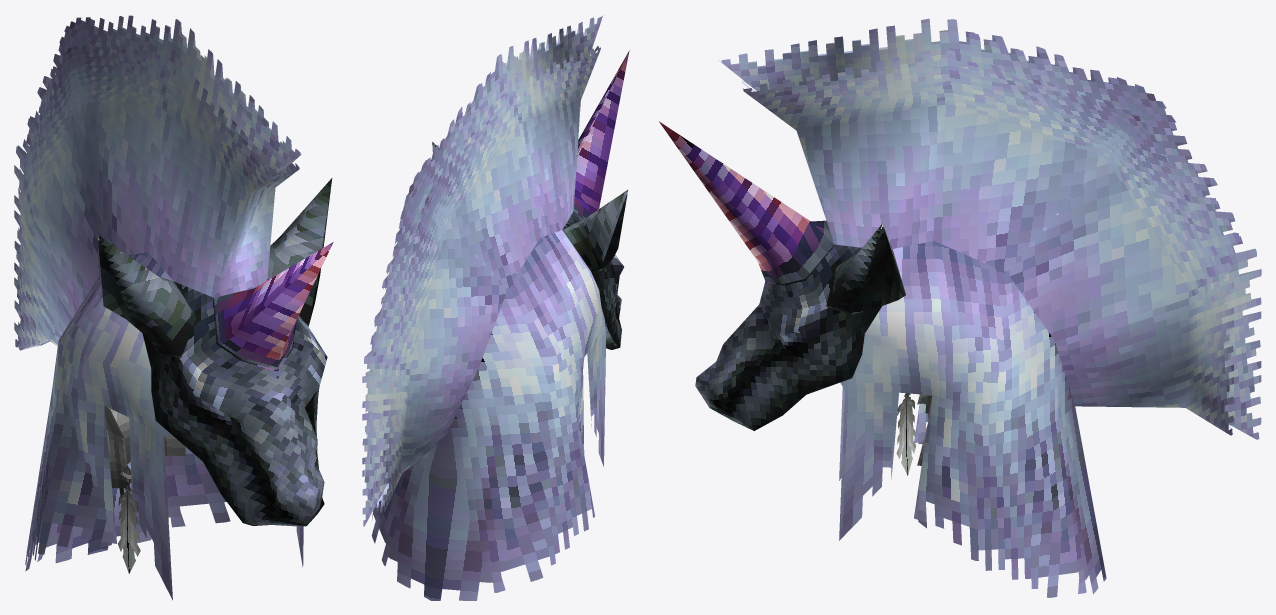
Rendered from m_helmet283.obj.
3 renders of one model, left to right at view 1: azimuth 30°, elevation 25°; view 2: azimuth 150°, elevation 25°; view 3: azimuth 270°, elevation 25°, orthographic. The views are drawn at different scales.
Parts seen in each view (by area): view 1: mesh03, mesh01, mesh00, mesh02; view 2: mesh03, mesh01; view 3: mesh03, mesh01, mesh02.
Part boxes in pixels (<box>): mesh03: <box>14,15,303,600</box>; mesh01: <box>97,178,333,526</box>; mesh00: <box>104,406,185,495</box>; mesh02: <box>118,484,140,573</box>; mesh03: <box>362,15,606,600</box>; mesh01: <box>432,50,629,349</box>; mesh03: <box>718,18,1261,597</box>; mesh01: <box>659,121,905,430</box>; mesh02: <box>896,393,916,475</box>.
Size of the model in its own units: 23.84 by 53.27 by 51.58.
Materials: 4 (4 with a texture image).
